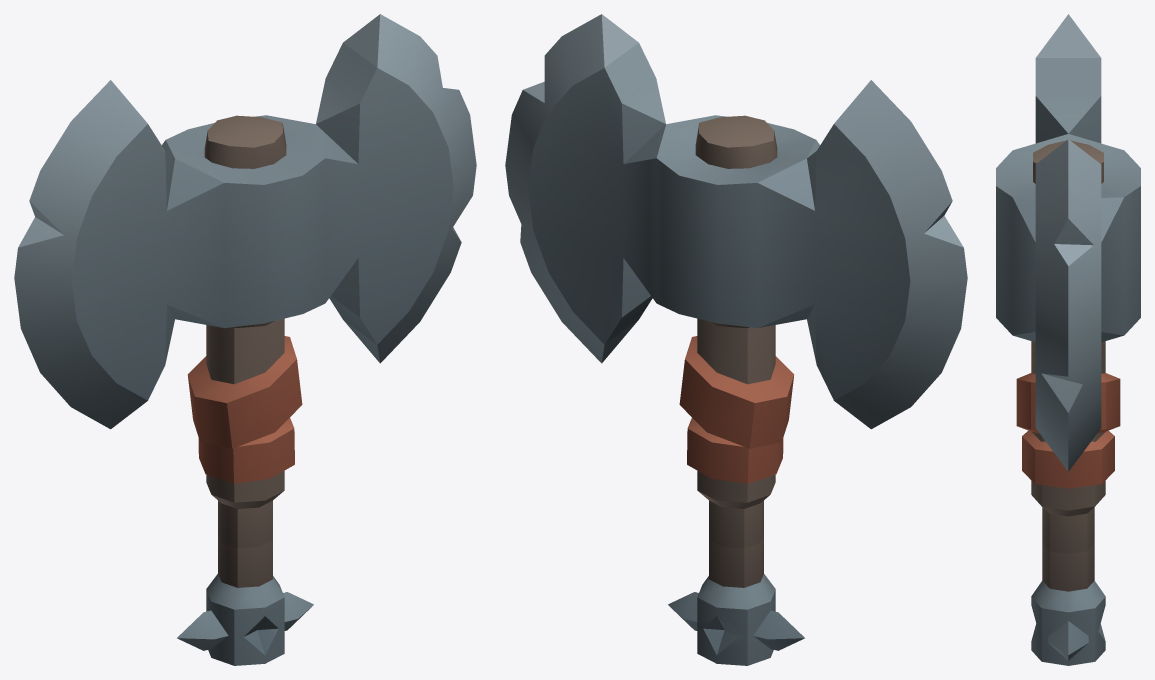
File: Skeleton_Axe.fbx
The picture shows the model from 3 angles, left to right: view 1: azimuth 30°, elevation 25°; view 2: azimuth 150°, elevation 25°; view 3: azimuth 270°, elevation 25°; orthographic projection. The views are drawn at different scales.
Parts seen in each view (by area): view 1: Skeleton_Axe; view 2: Skeleton_Axe; view 3: Skeleton_Axe.
Part boxes in pixels (x1,y1,x2,y2): Skeleton_Axe: (14, 14, 476, 665); Skeleton_Axe: (505, 14, 967, 665); Skeleton_Axe: (996, 14, 1140, 665).
Bounding box in the file's own units: 0.9886 × 1.25 × 0.2819.
